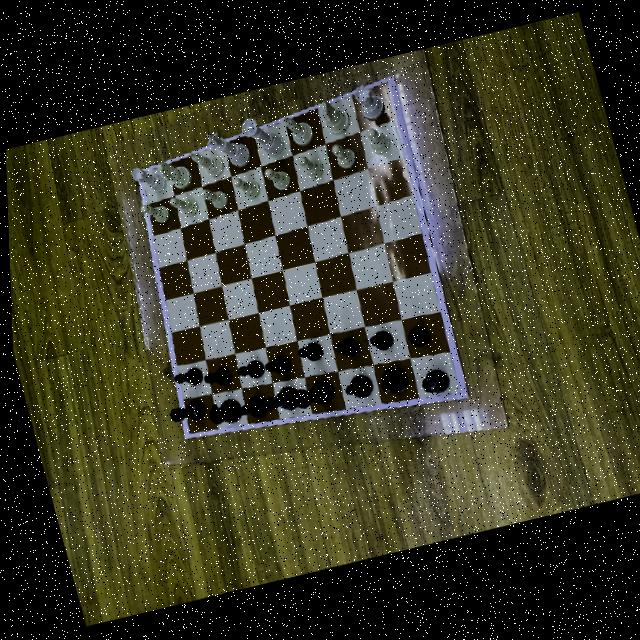chessboard-corner: (457, 390, 470, 403), (126, 165, 139, 175), (174, 430, 184, 443), (386, 69, 396, 80)
